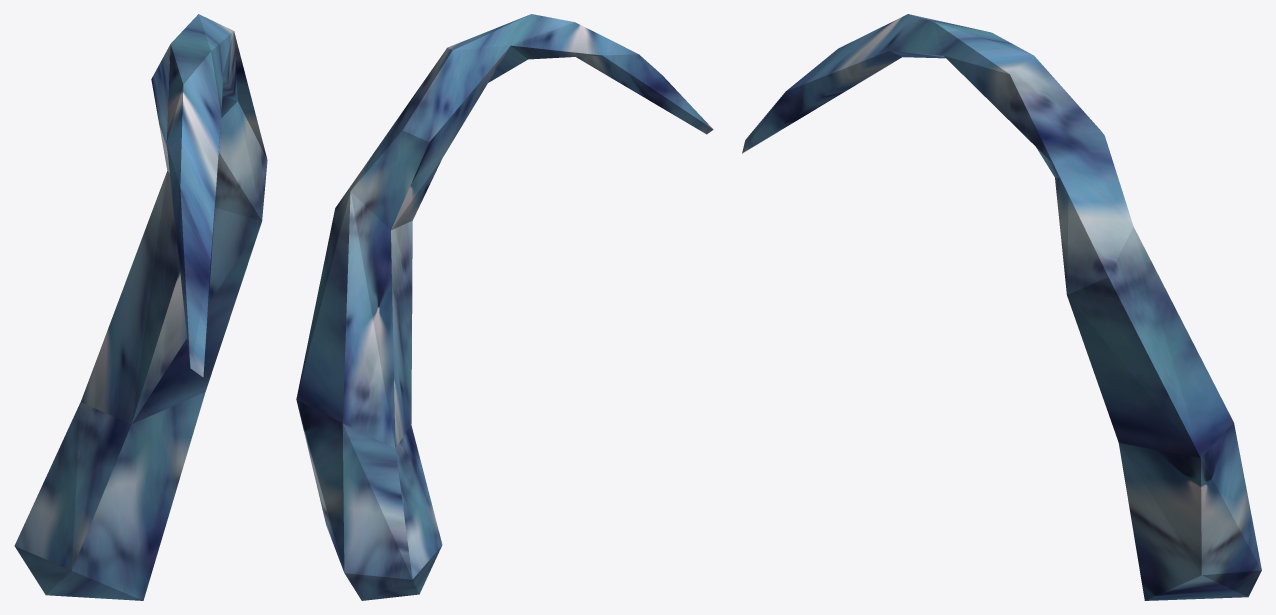
File: SnowCreature_4.gltf
The picture shows the model from 3 angles, left to right: view 1: azimuth 30°, elevation 25°; view 2: azimuth 150°, elevation 25°; view 3: azimuth 270°, elevation 25°; orthographic projection. The views are drawn at different scales.
Visible parts, largest first — view 1: SnowCreature_4; view 2: SnowCreature_4; view 3: SnowCreature_4.
Boxes of the visible parts, x1=… form: SnowCreature_4: x1=14, y1=14, x2=267, y2=600; SnowCreature_4: x1=296, y1=14, x2=713, y2=600; SnowCreature_4: x1=742, y1=14, x2=1261, y2=600.
Size of the model in its own units: 5.2 by 11.22 by 9.47.
1 material, 1 textured.
